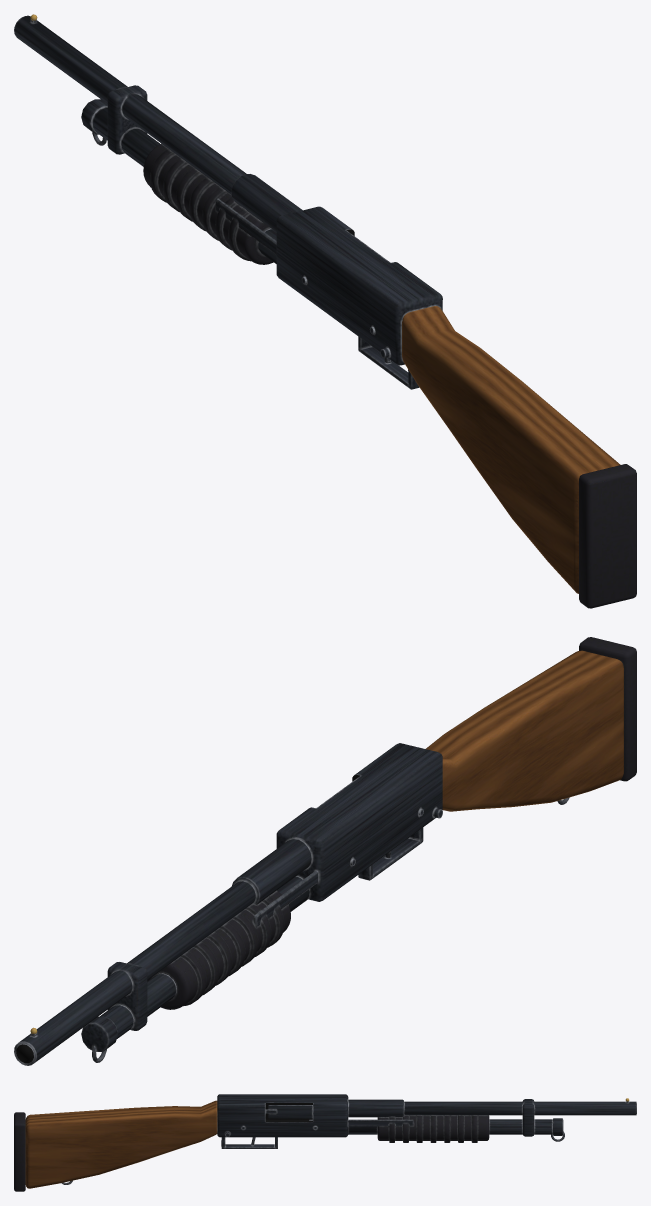
The model's file is shotgun.glb.
3 renders of one model, top to bottom at view 1: azimuth 30°, elevation 25°; view 2: azimuth 150°, elevation 25°; view 3: azimuth 270°, elevation 25°, orthographic. The views are drawn at different scales.
Parts seen in each view (by area): view 1: Shotgun; view 2: Shotgun; view 3: Shotgun.
Boxes of the visible parts, x1,y1,x2,y2 form: Shotgun: (14, 14, 636, 608); Shotgun: (14, 637, 636, 1065); Shotgun: (14, 1094, 636, 1191).
Size of the model in its own units: 0.054 by 0.1478 by 0.9505.
Materials: 1 (1 with a texture image).
